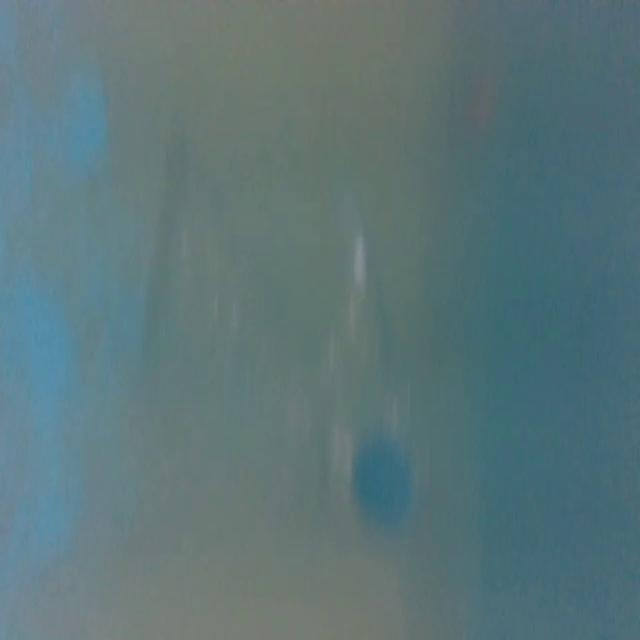plastic bottle: (139, 186, 432, 538)
